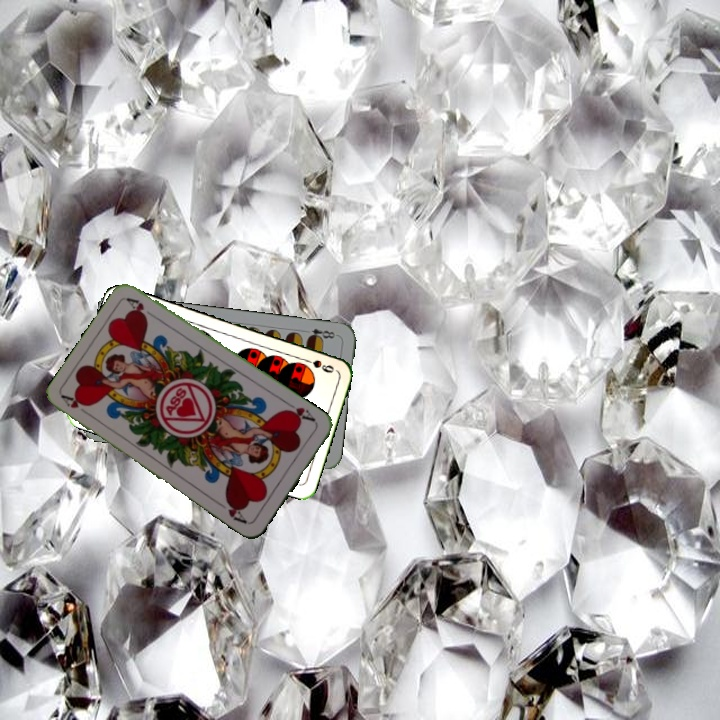E8: (304, 325, 340, 343)
HA: (58, 391, 95, 419), (281, 398, 318, 425)
S9: (298, 354, 337, 376)
